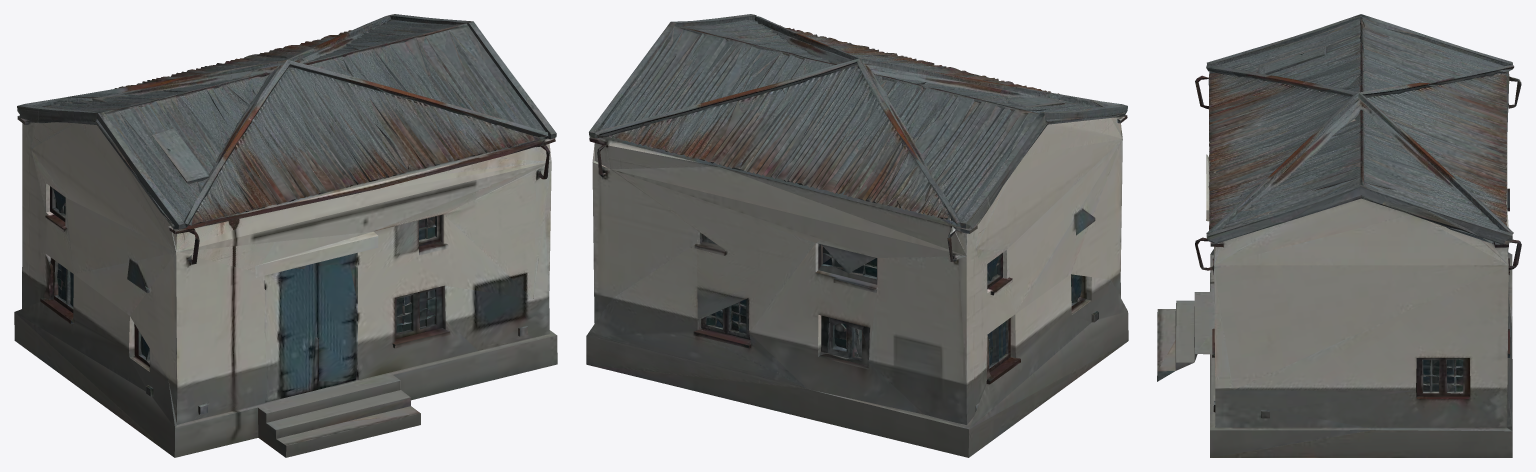
Rendered from Depot_Warehouse.glb.
3 renders of one model, left to right at view 1: azimuth 30°, elevation 25°; view 2: azimuth 150°, elevation 25°; view 3: azimuth 270°, elevation 25°, orthographic. The views are drawn at different scales.
Size of the model in its own units: 1.9 by 1.39 by 1.66.
1 material, 1 textured.
